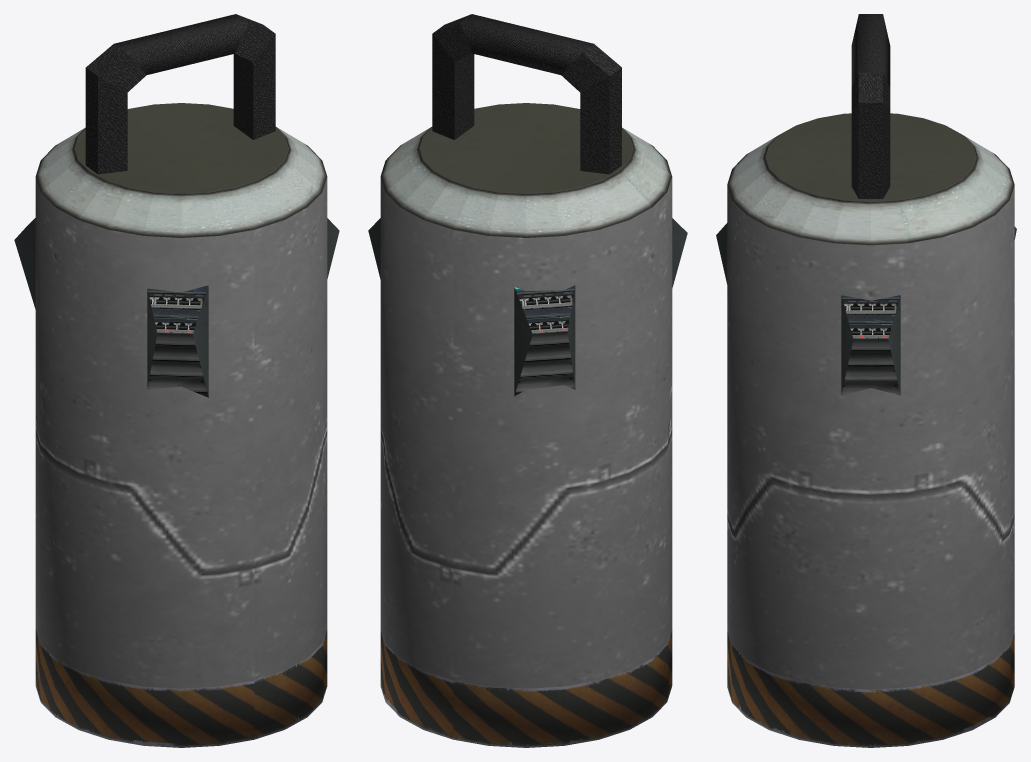
The model's file is Canisters_01.fbx.
3 views of the same model, side by side, from view 1: azimuth 30°, elevation 25°; view 2: azimuth 150°, elevation 25°; view 3: azimuth 270°, elevation 25° (orthographic).
Visible parts, largest first — view 1: Canisters_01; view 2: Canisters_01; view 3: Canisters_01.
Part boxes in pixels (x1,y1,x2,y2): Canisters_01: [14, 14, 339, 747]; Canisters_01: [368, 14, 687, 747]; Canisters_01: [716, 14, 1016, 747].
Size of the model in its own units: 25.96 by 58.79 by 24.91.
